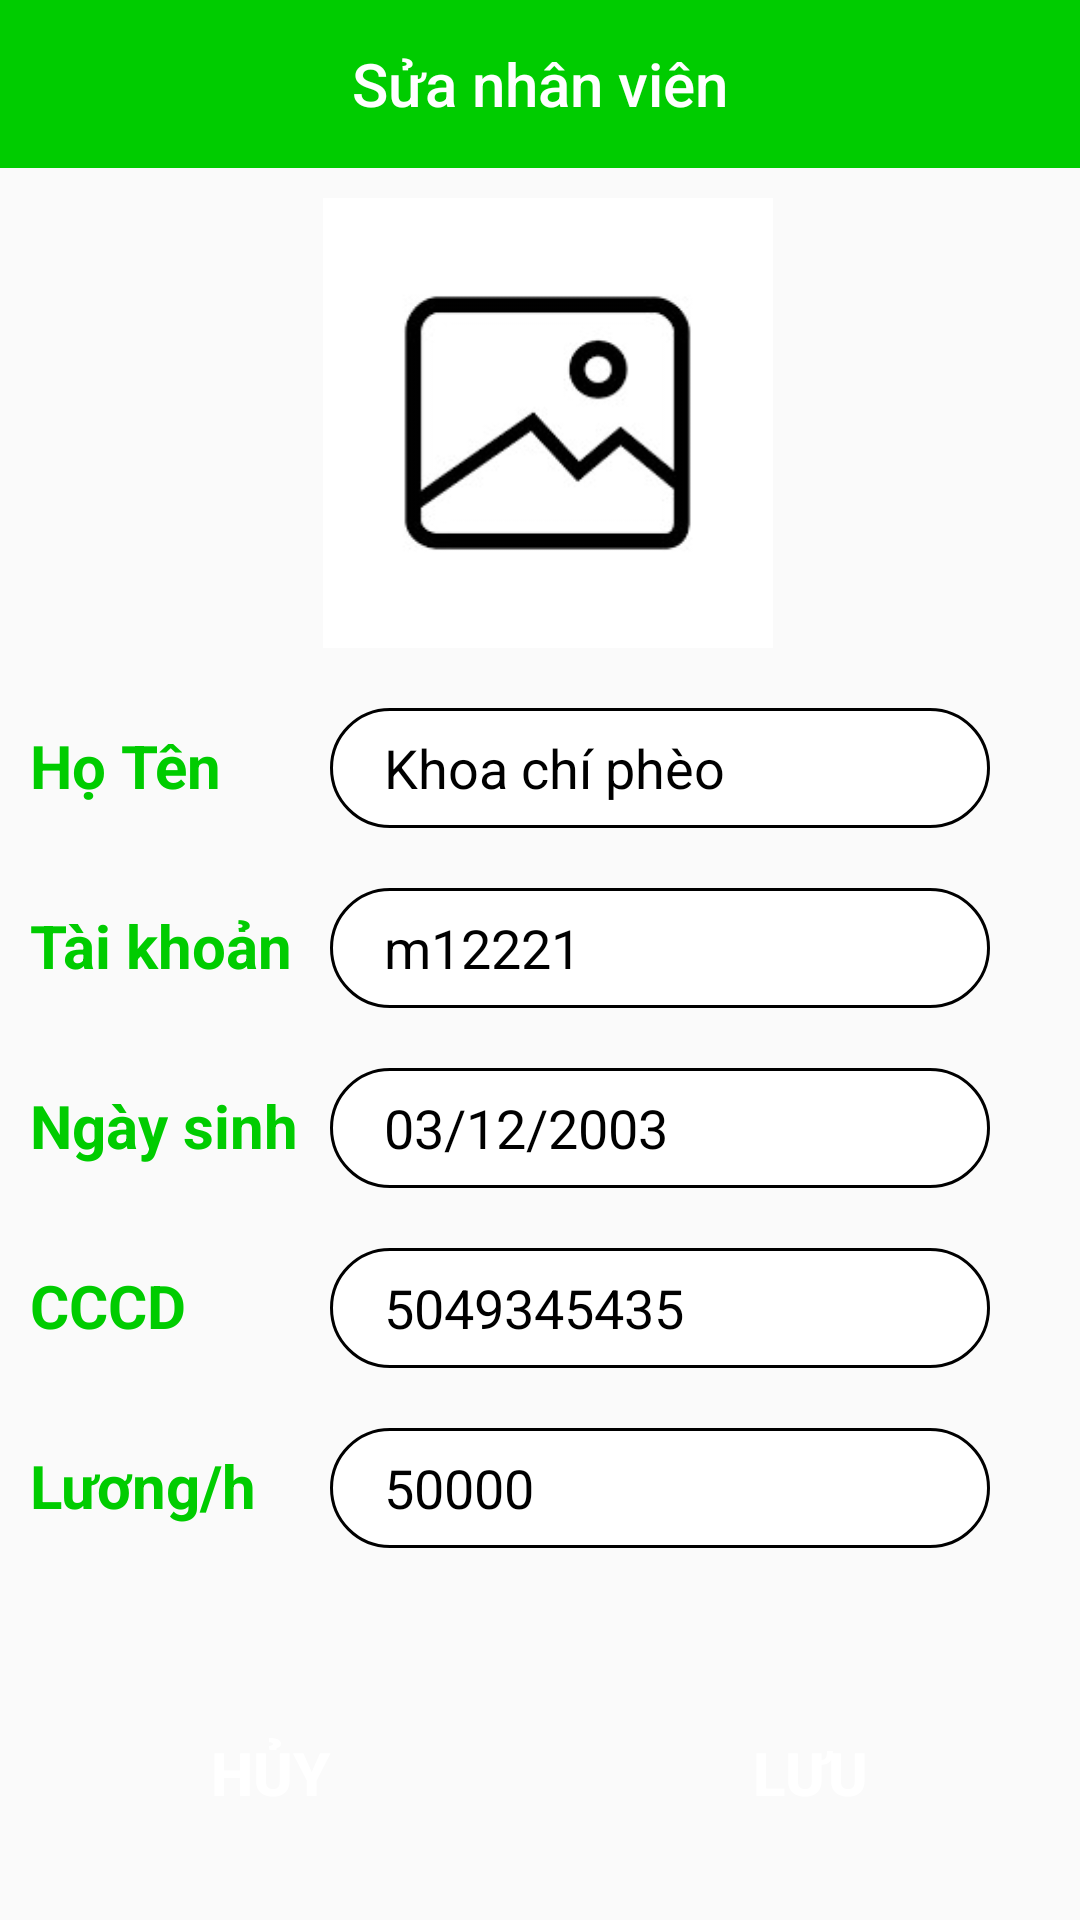

Screen size 1080px x 1920px. Icon name, then its center in pixels as [x,y]:
anh: [547,423]
